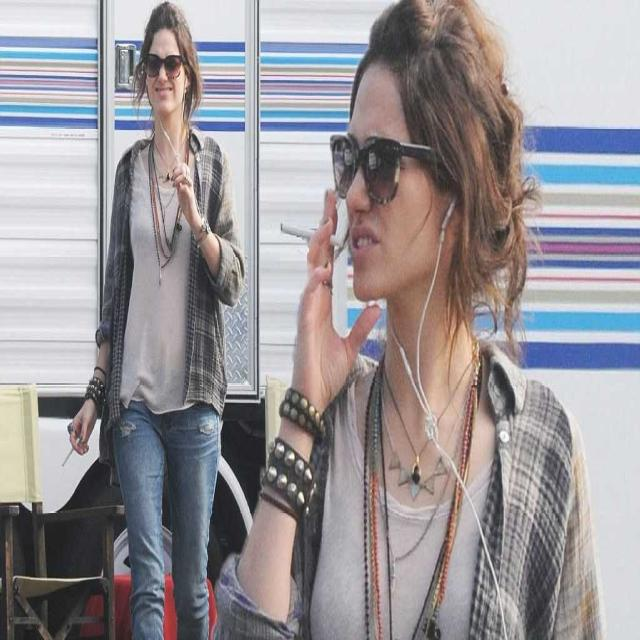Smooking: (280, 217, 348, 271)
